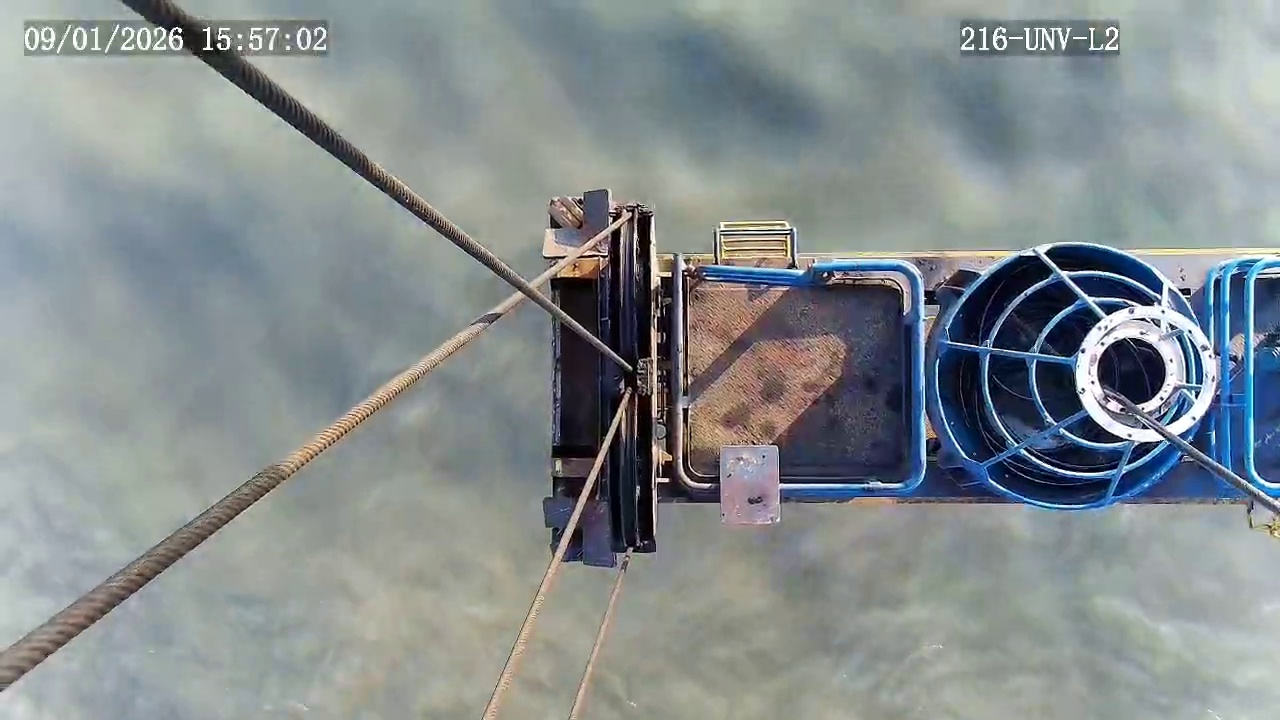left: (934, 243, 1211, 511)
